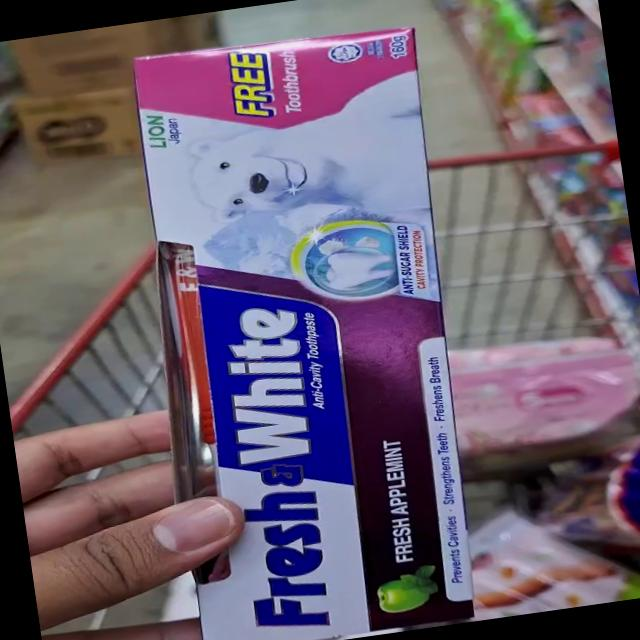Ubat Gigi: (100, 21, 478, 412), (173, 334, 509, 640)
